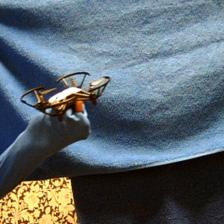drone: (19, 68, 110, 124)
